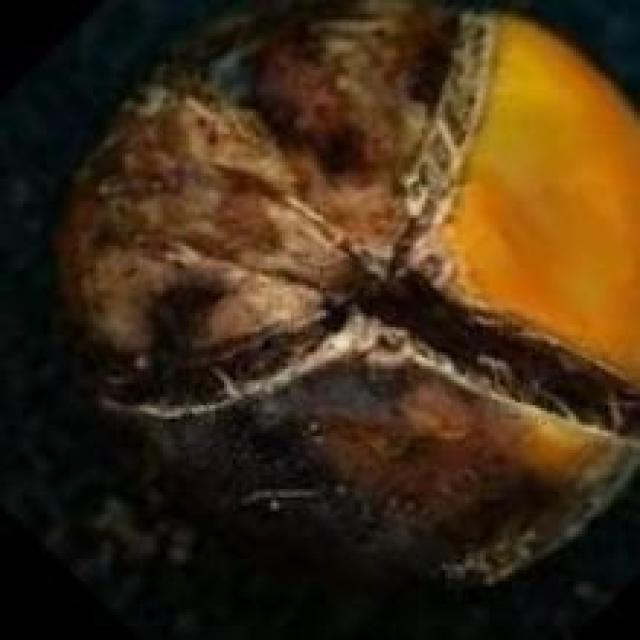damaged: (47, 0, 637, 634)
